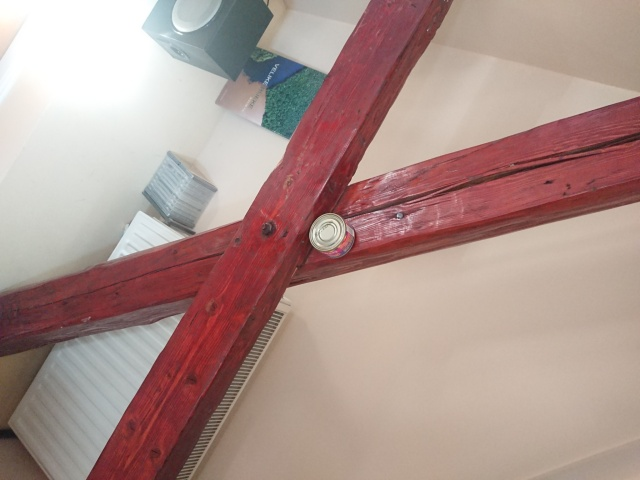Giana Tuna Salad Mexico 185g: (305, 210, 358, 261)
